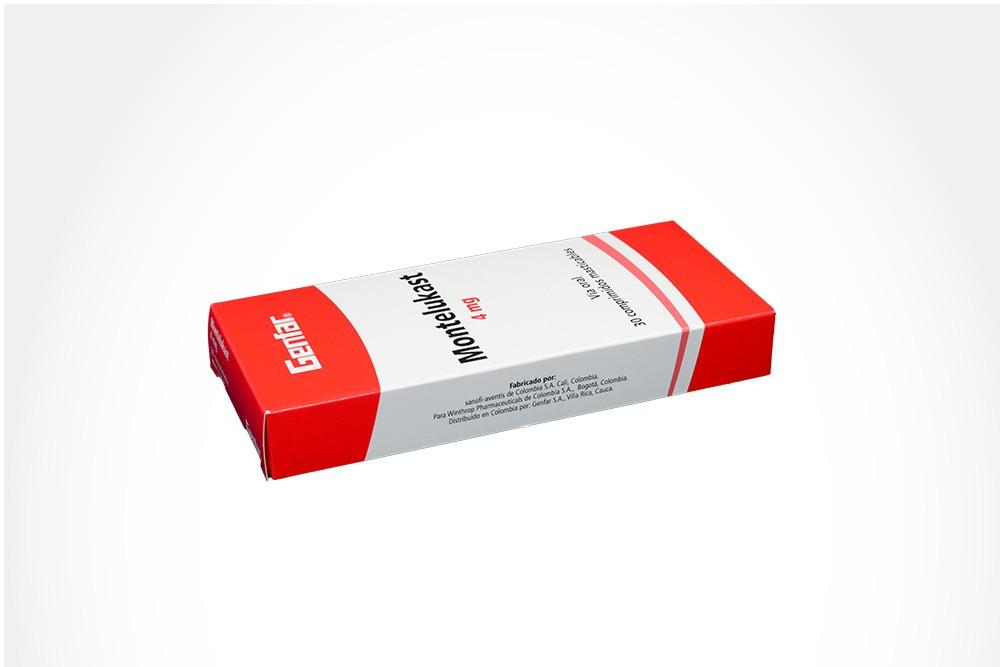Genfar: (221, 225, 770, 410)
